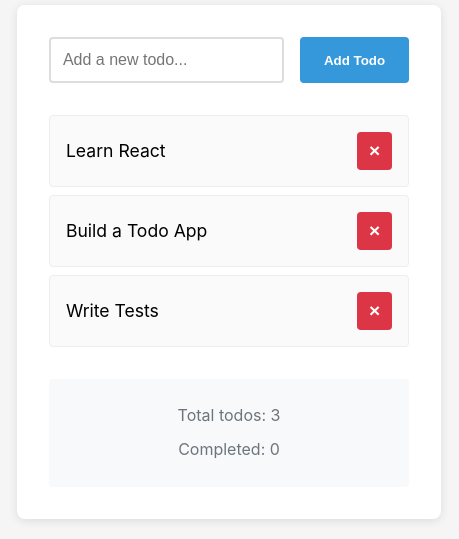
Scenario: TodoList Component › deletes a todo
Click the button named "delete".
click(374, 151)  # box [357,132,392,170]
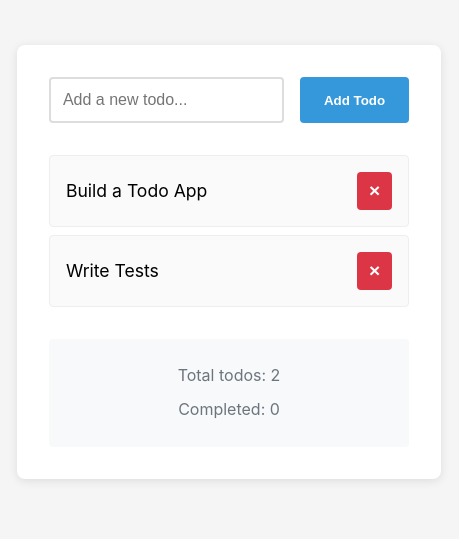
Expected: the number of buttons named "delete" is 2, [357,172,392,210]; [357,252,392,290]
Expected: the text "Learn React" is gone
